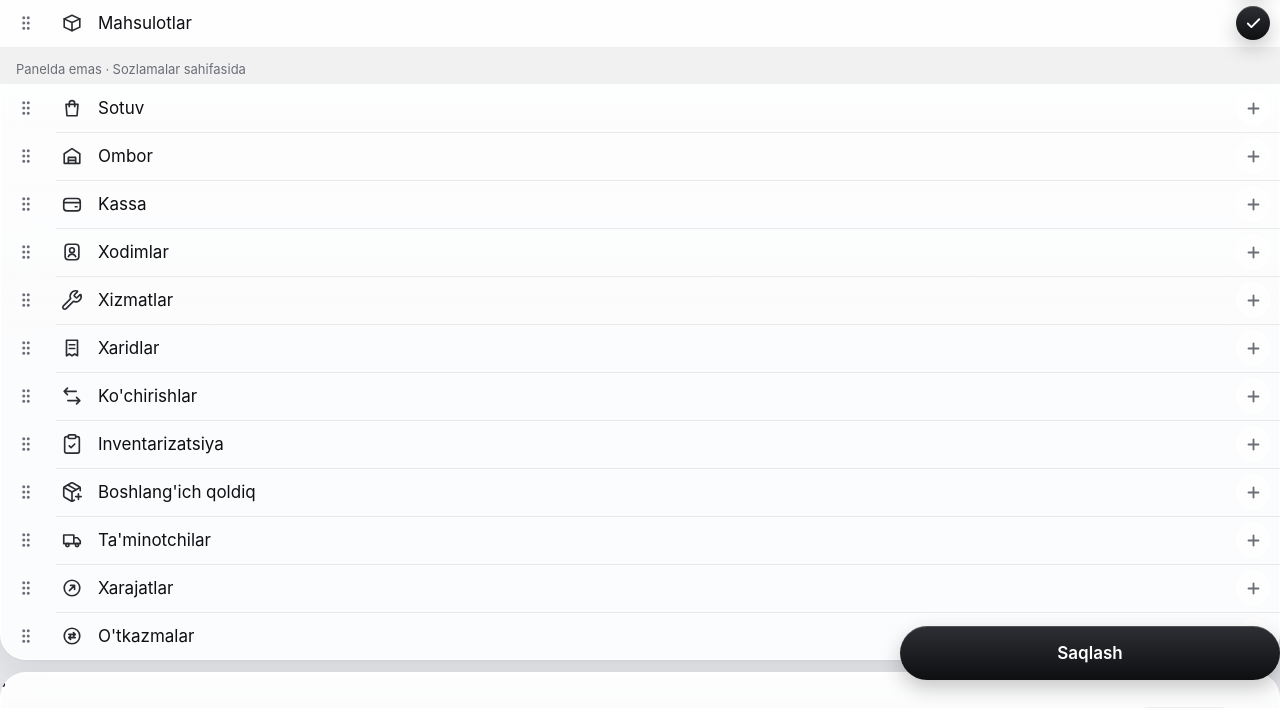
it: a bar the API refuses says why, and the editor stays
(page scrolled)
Click the button named "Panelga qo'shish: Xaridlar".
click(1253, 348)  # box [1236, 331, 1270, 365]
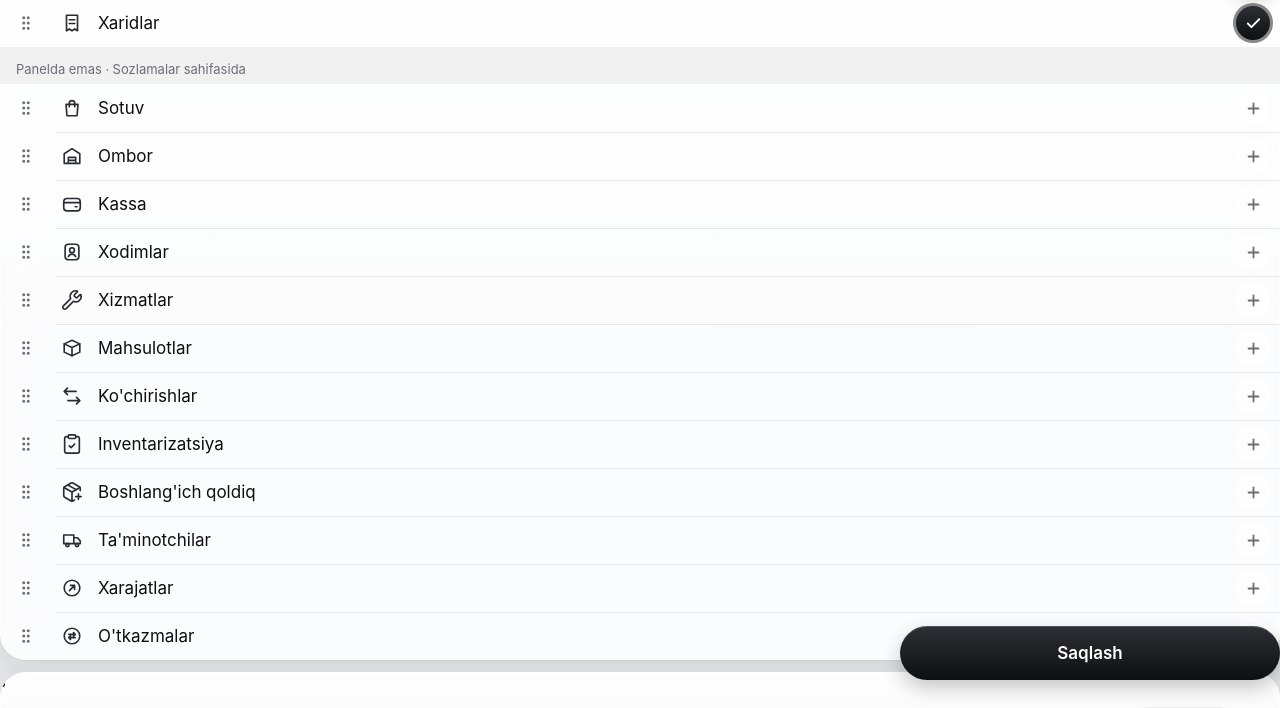
Click the button "Saqlash".
click(1090, 653)  # box [900, 626, 1279, 680]
(page scrolled)
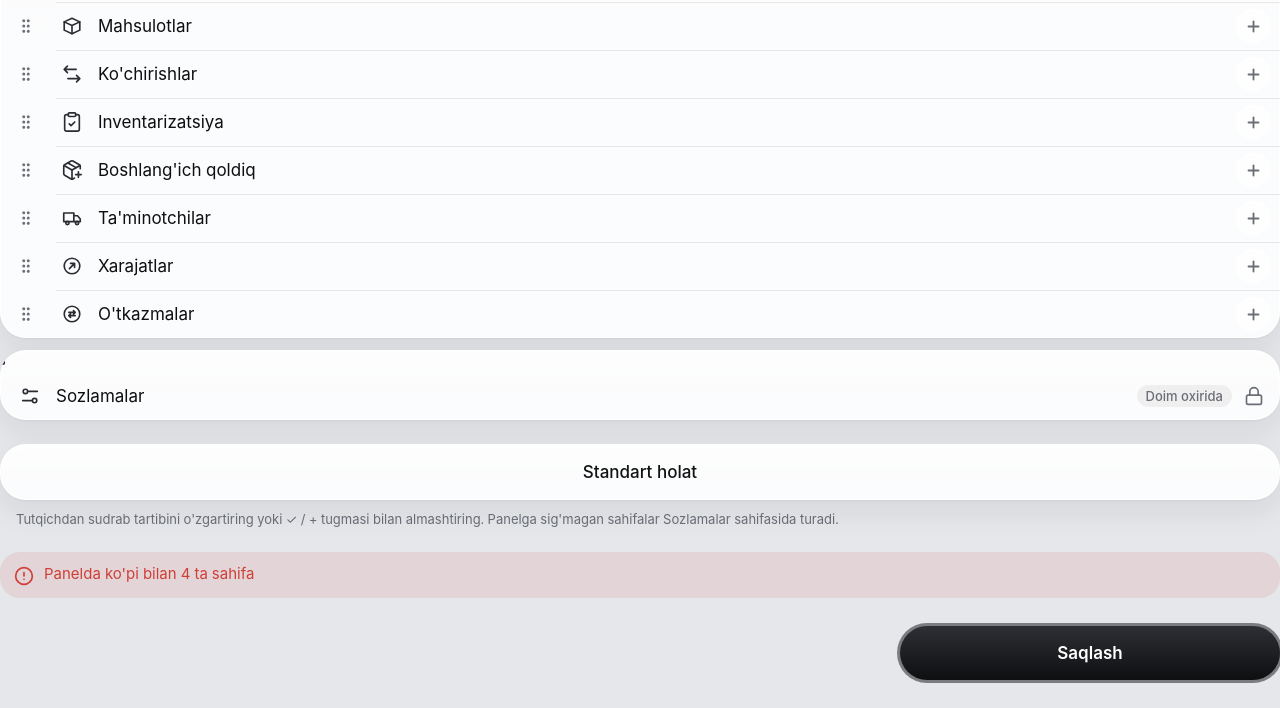
expect the text "Panelda ko'pi bilan 4 ta sahifa" is shown: met, box [44, 564, 254, 583]
